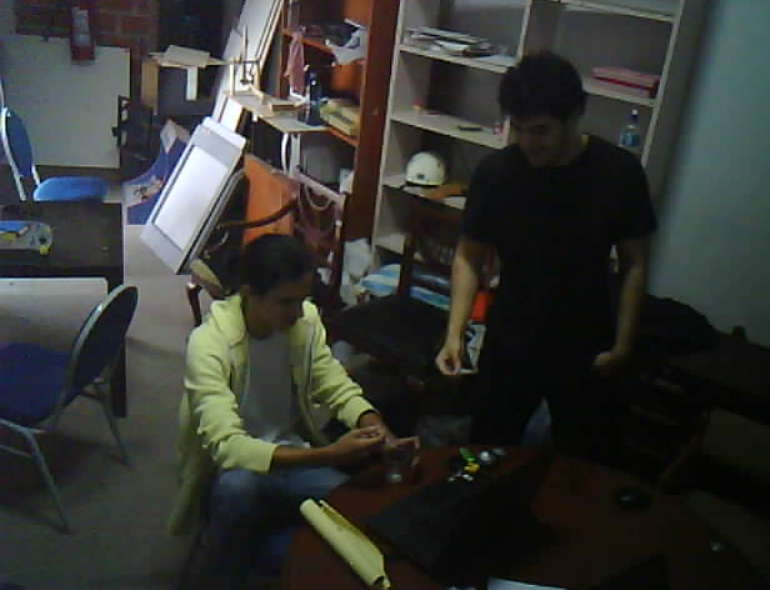person: (162, 202, 424, 590), (424, 18, 652, 463)
